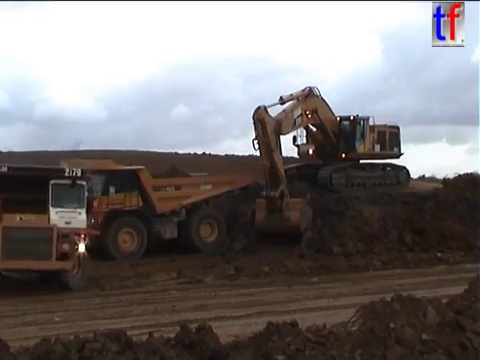excavator: (248, 84, 412, 237)
truck: (56, 157, 254, 263), (1, 161, 94, 292)
